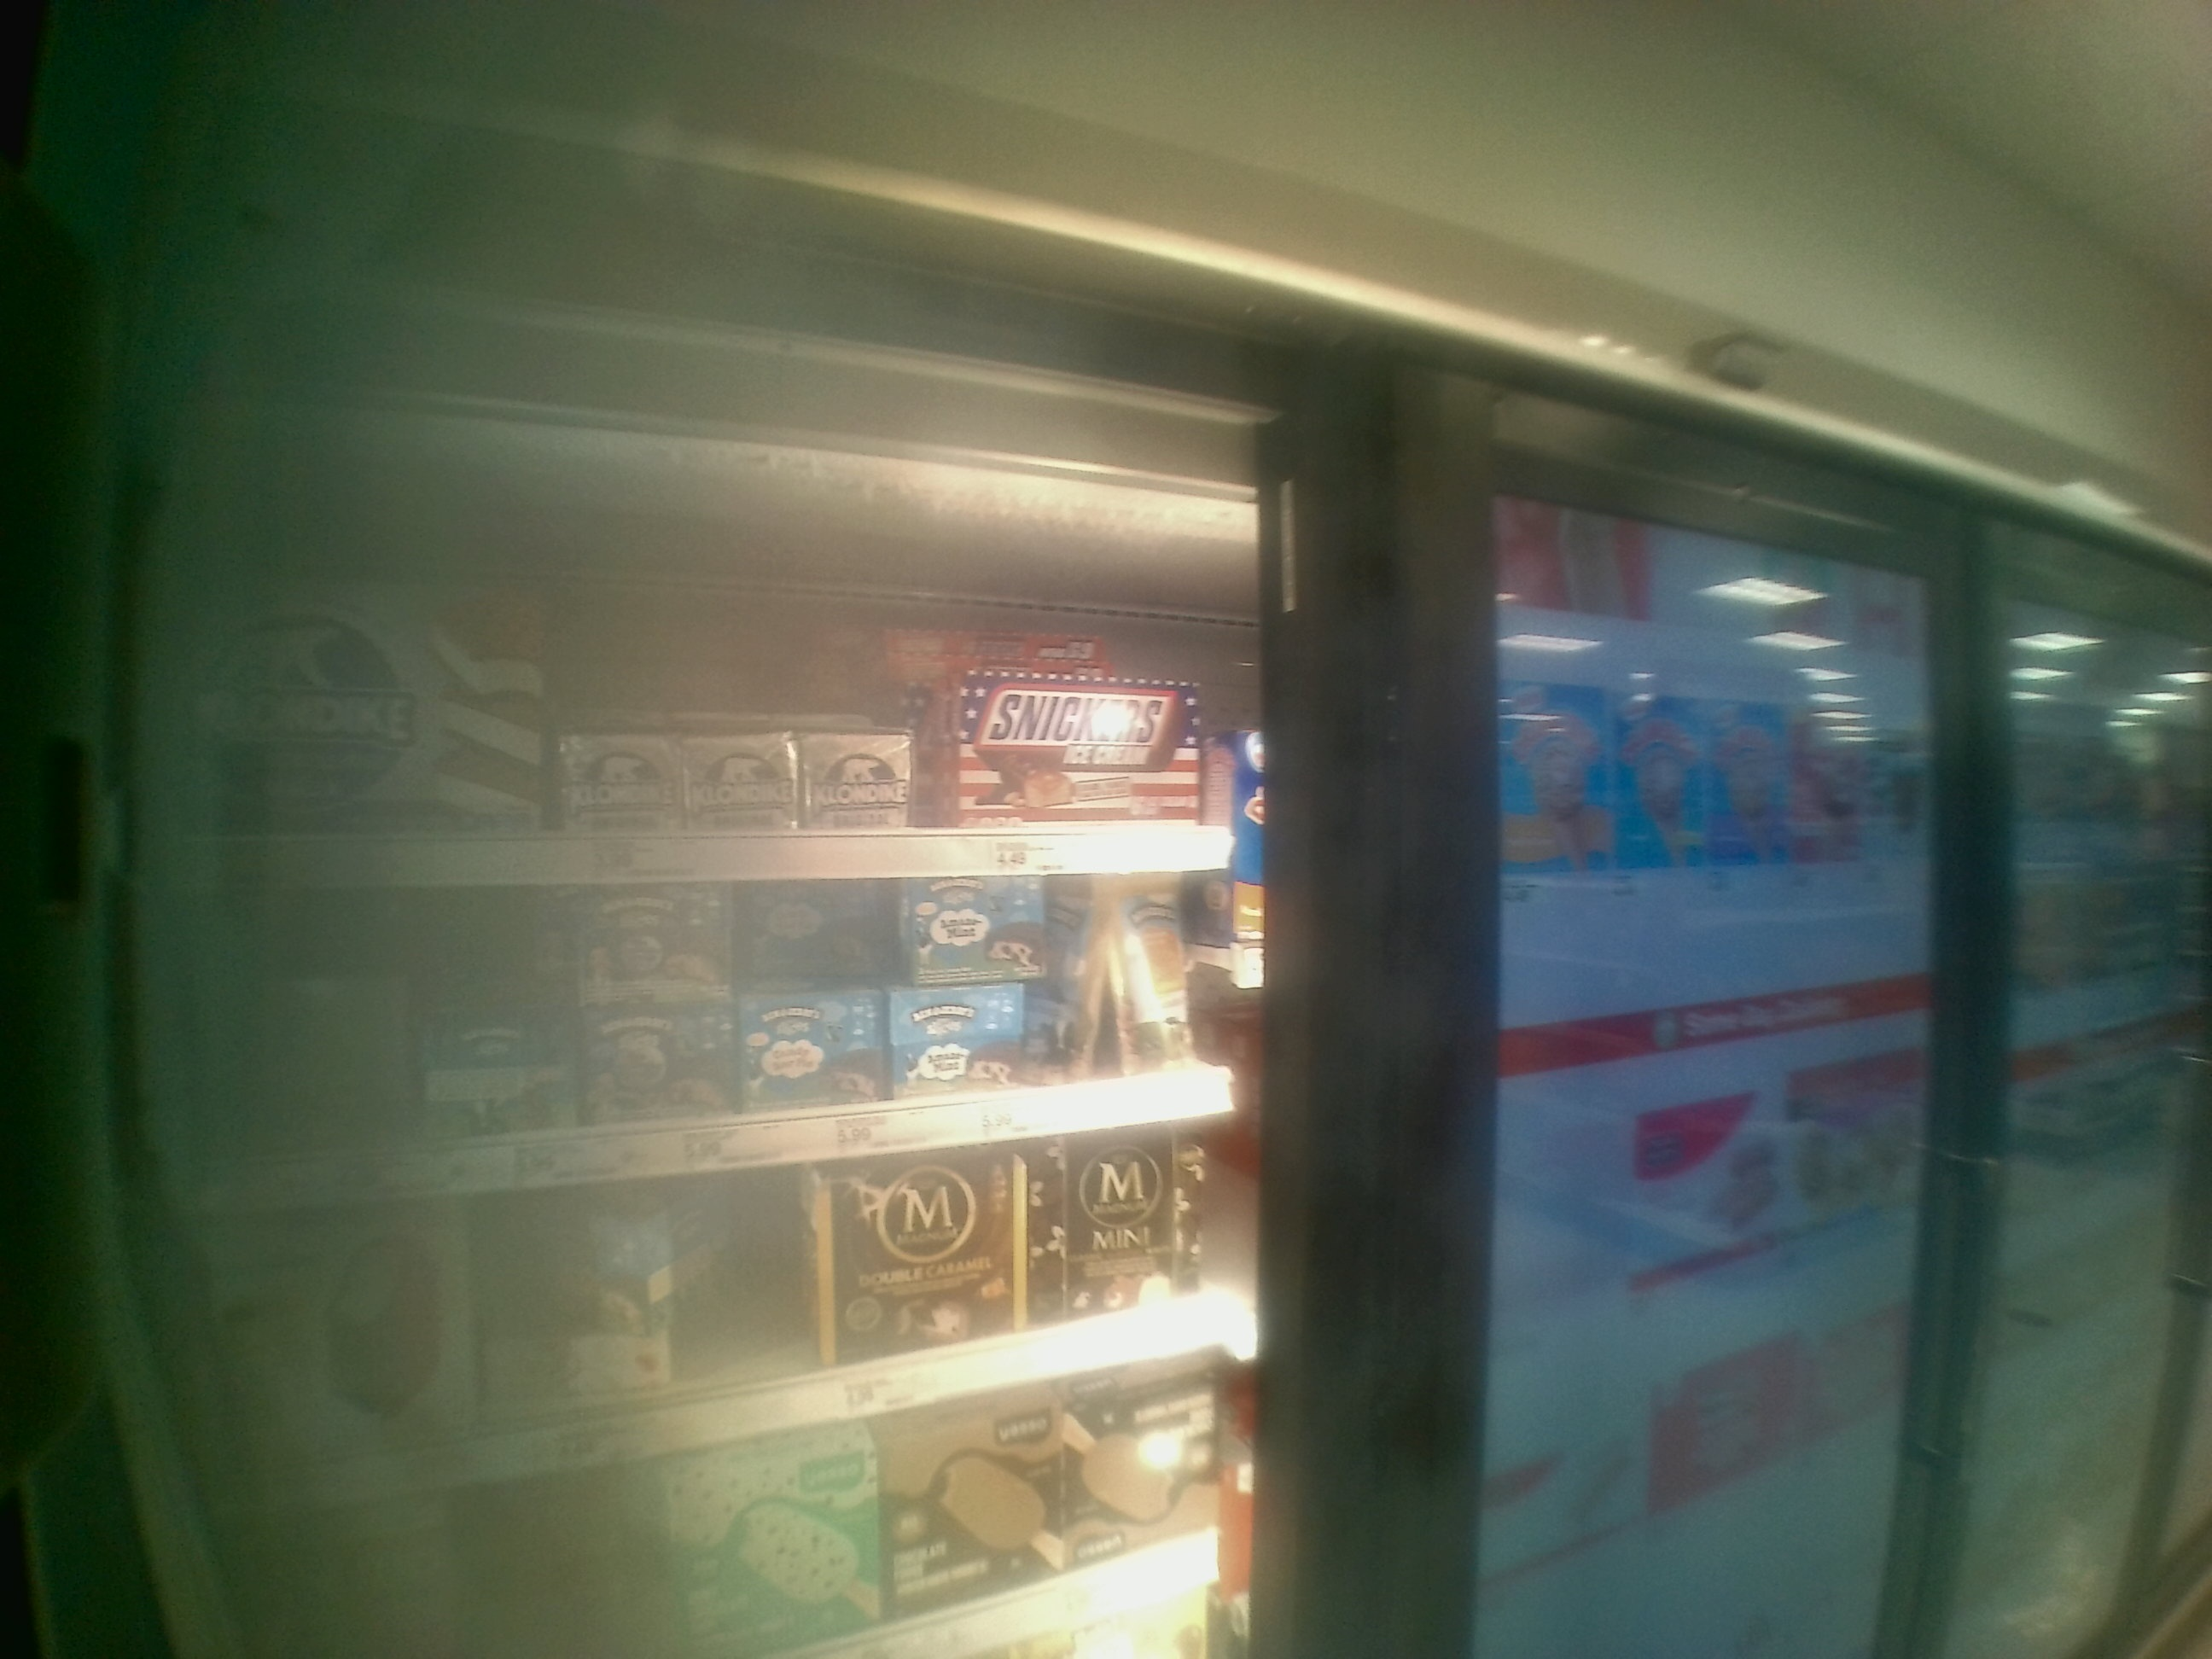shelf: (164, 462, 1249, 878), (158, 884, 1263, 1223)
